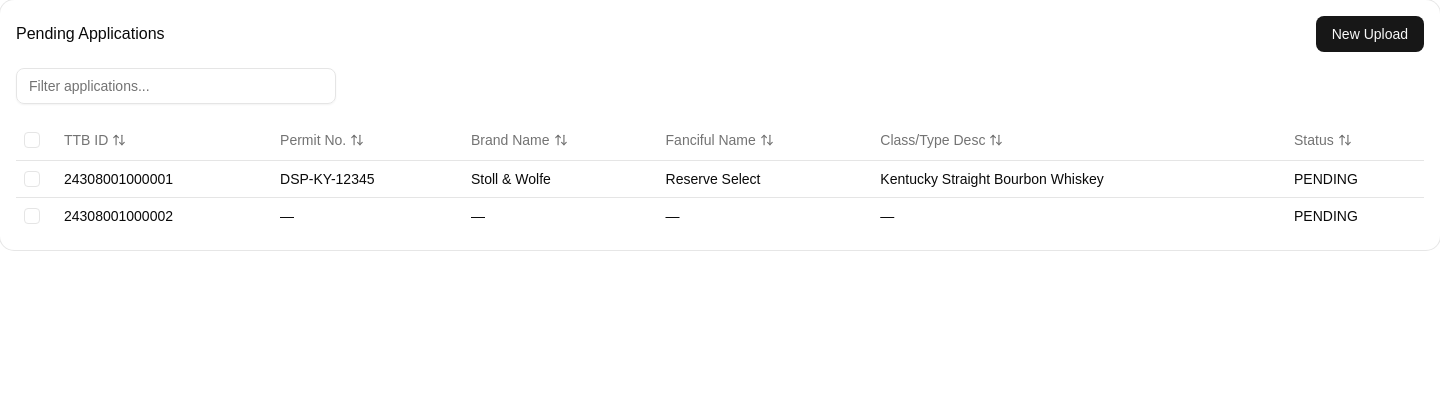
Test: DashboardPage › shows a plain-English error with retry/dismiss when batch status polling fails (15.5)
The image size is (1440, 404).
Expected: the text "24308001000001" is shown, [56,160,272,197]
Click the checkbox named "Select application 1". click: coordinates (32, 178)
box: [24,170,40,186]
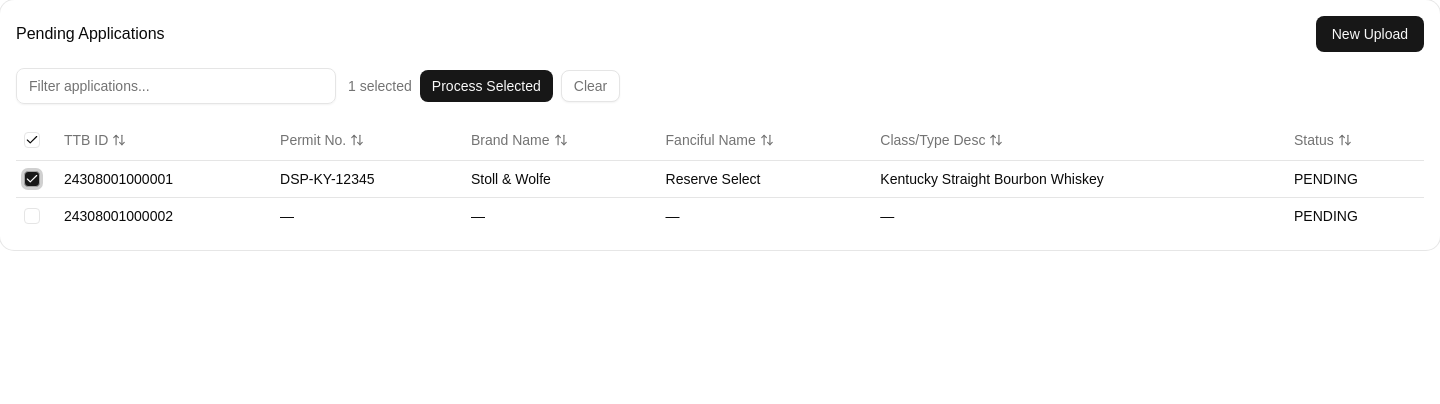
Click the button "Process Selected". click: coordinates (486, 86)
box: [420,70,553,102]
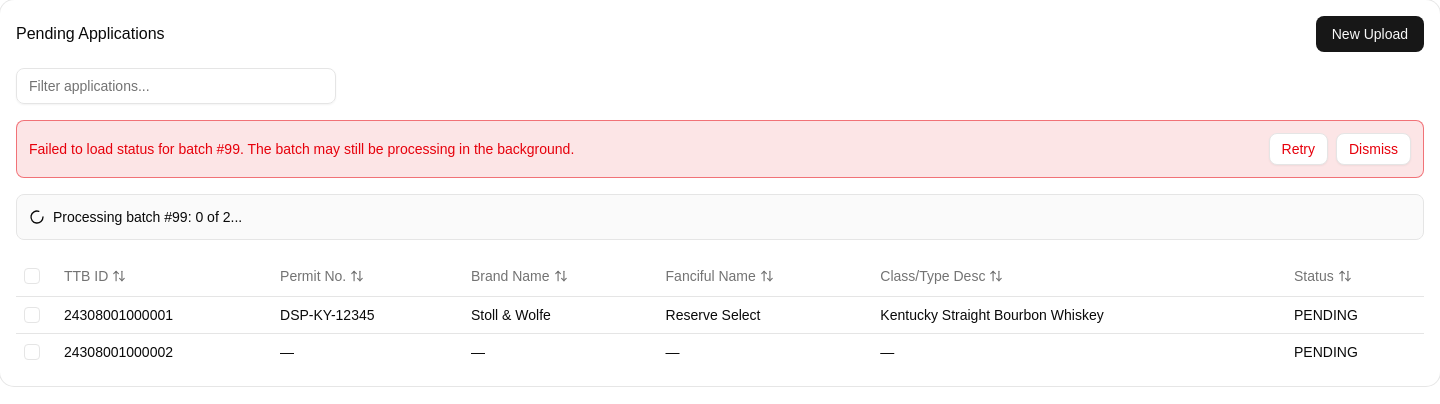
Expected: the text "Failed to load status for batch #99" is shown, [29,139,574,159]
Expected: the button "Retry" is shown, [1268,133,1328,165]
Click the button "Dismiss". click: coordinates (1374, 149)
box: [1336,133,1411,165]
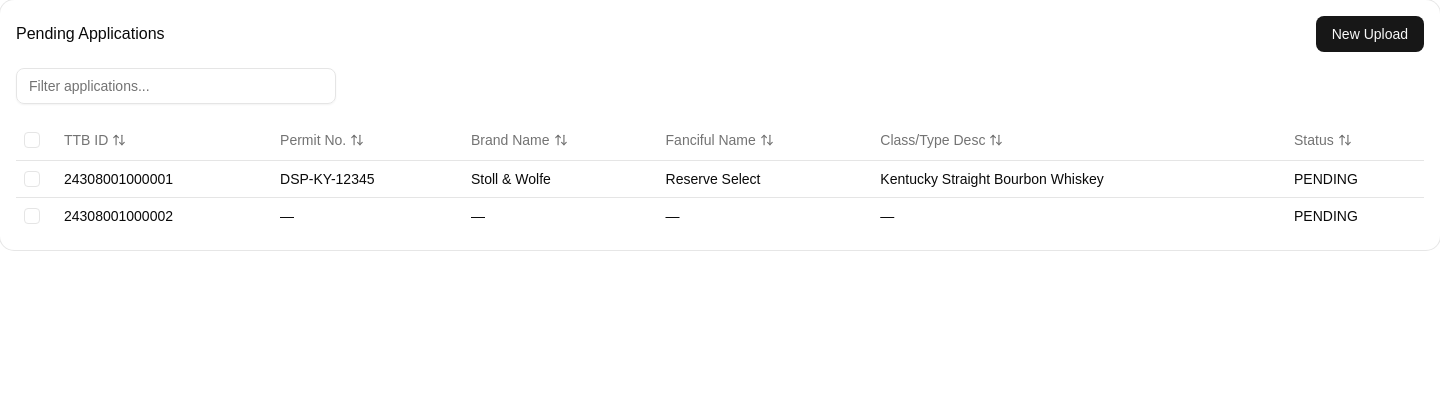
Expected: the text "Failed to load status for batch" is gone
